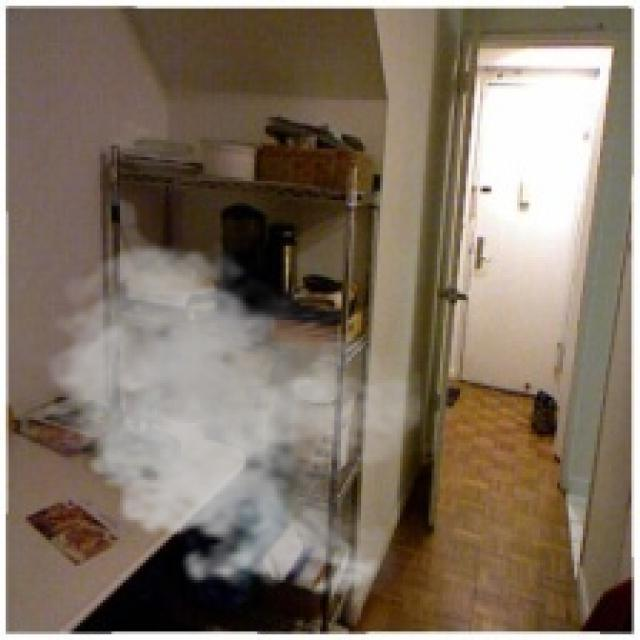Smoke: (34, 237, 426, 609)
